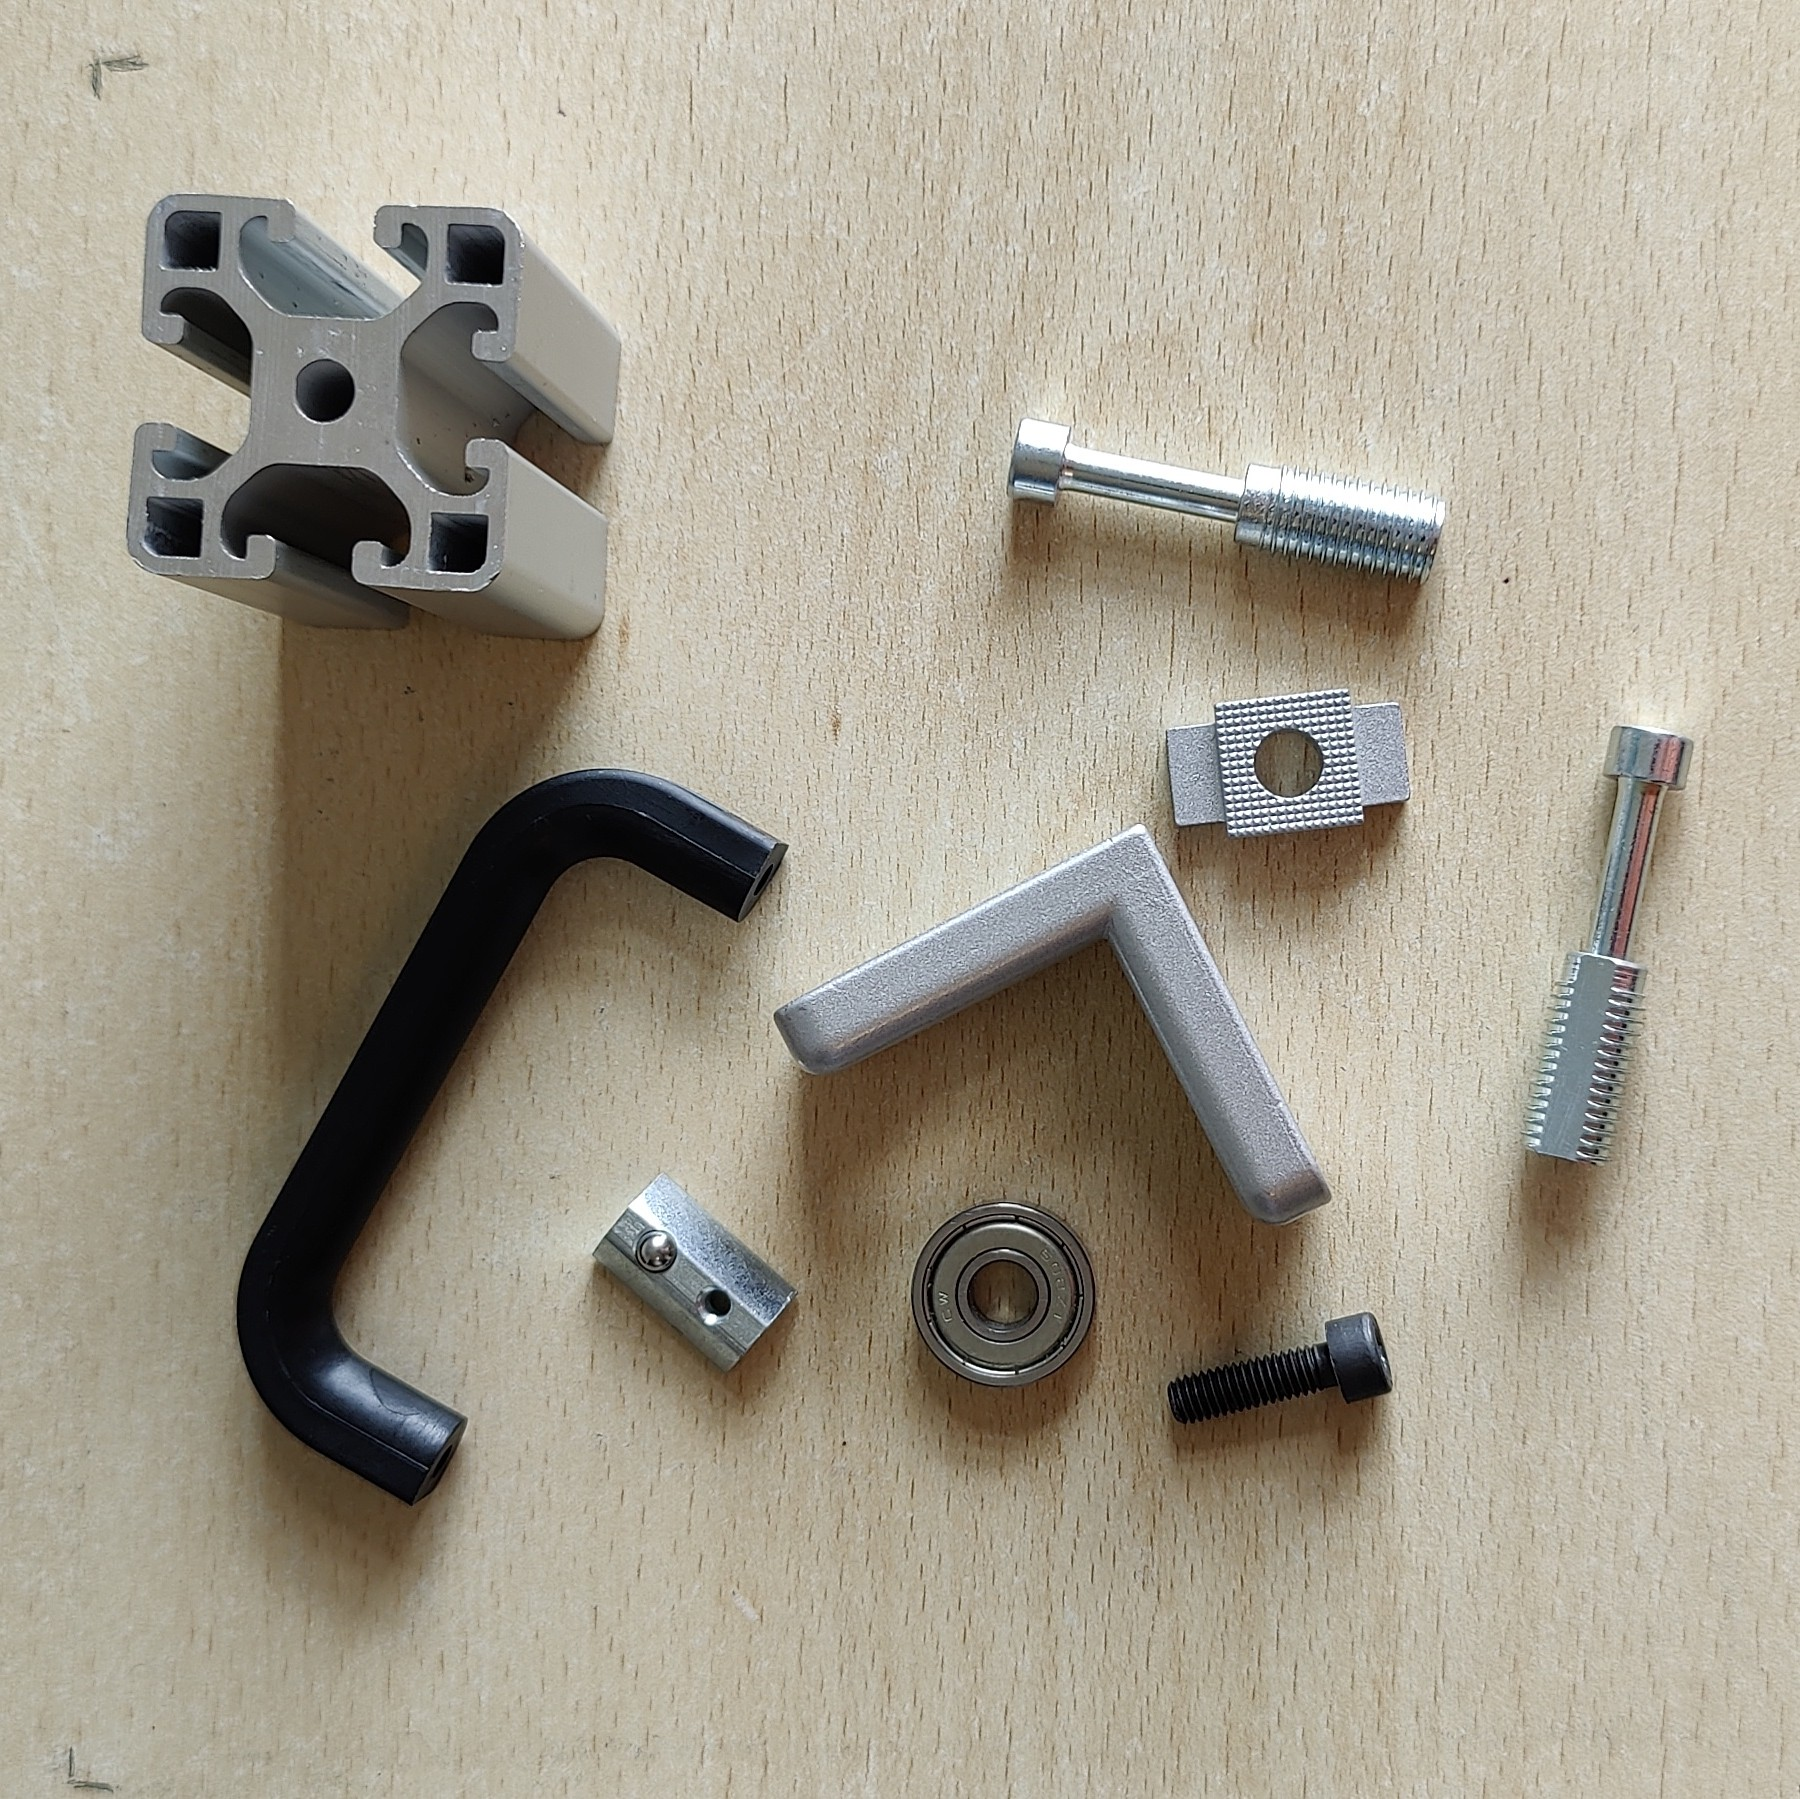Aluminium Extension: (124, 188, 624, 646)
Ball Bearing: (909, 1198, 1100, 1390)
Multiwinkel: (771, 820, 1332, 1232)
Pull Handle: (232, 763, 790, 1511)
Shoulder Socket Head Cap Screw: (1001, 414, 1449, 591), (1518, 722, 1695, 1170)
Socket Head Cap Screw: (1164, 1308, 1397, 1430)
T Nut Square: (1163, 687, 1416, 842)
T Spring Nut: (590, 1168, 800, 1377)
